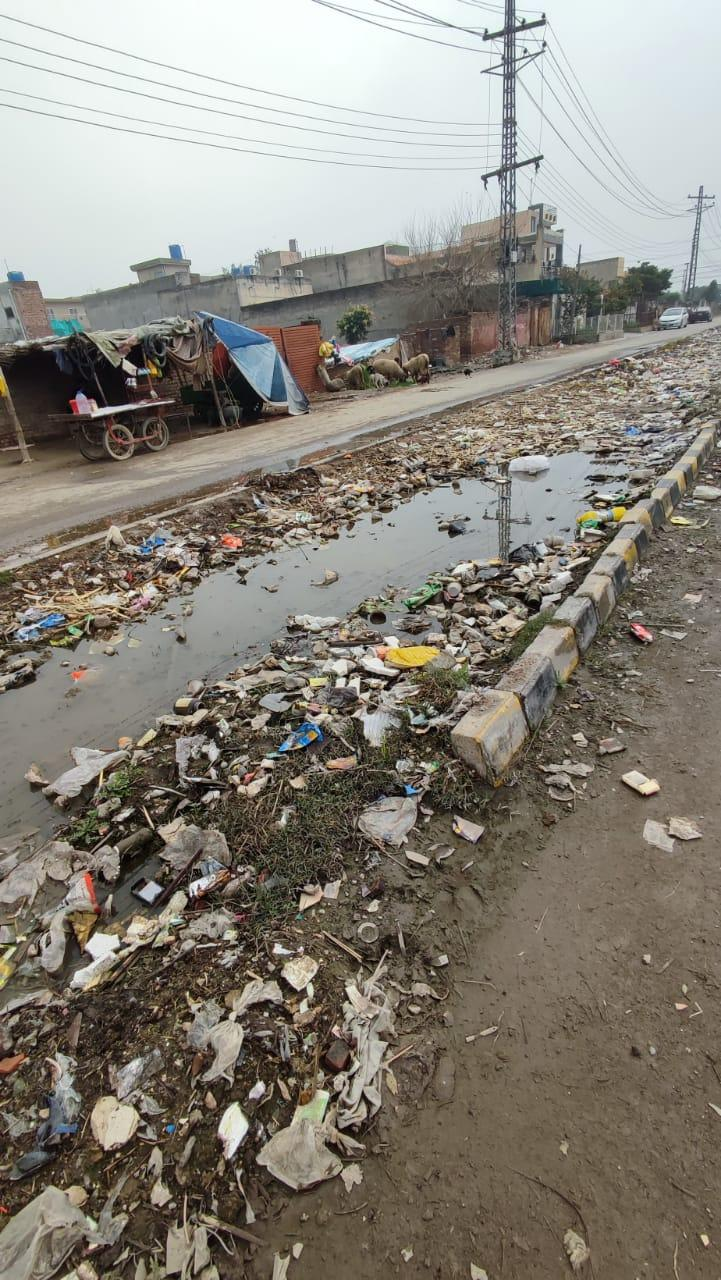garbage: (6, 520, 597, 1280)
